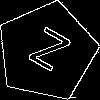Z: (21, 26, 72, 81)
